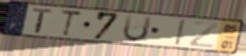7: (93, 10, 121, 41)
I: (173, 18, 187, 47)
T: (59, 8, 84, 38), (31, 7, 56, 34)
U: (121, 14, 154, 43)
Z: (187, 20, 220, 49)
